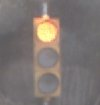Red: (28, 12, 69, 105)
